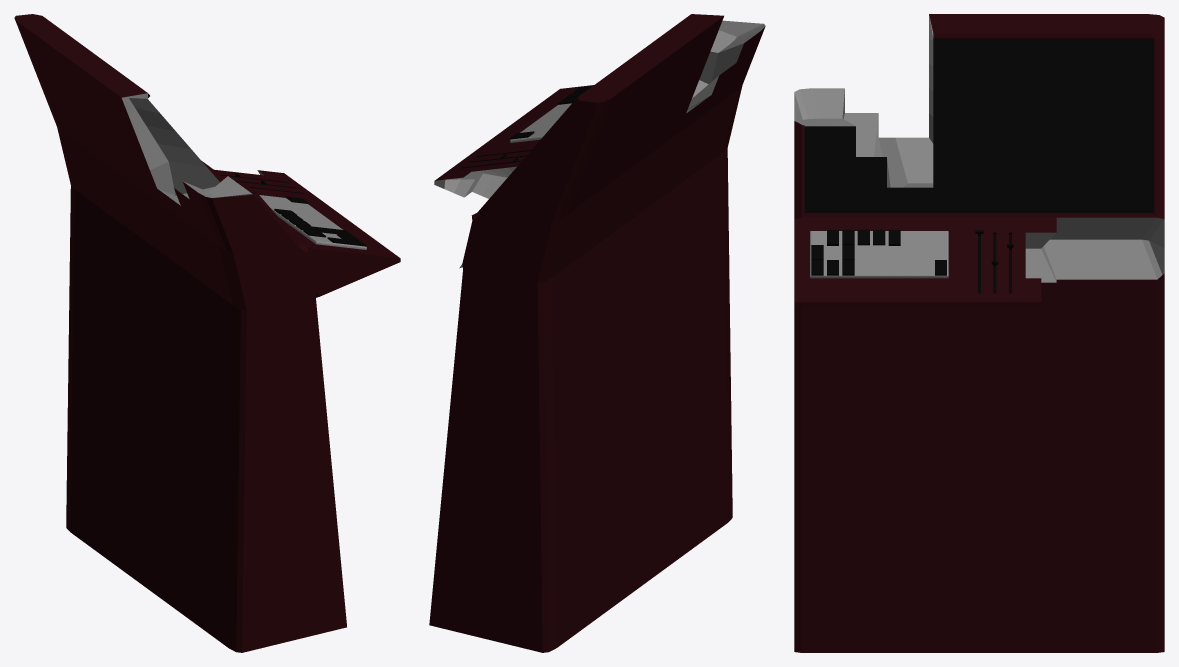
The model's file is RadarSlomaniy.fbx.
3 views of the same model, side by side, from view 1: azimuth 30°, elevation 25°; view 2: azimuth 150°, elevation 25°; view 3: azimuth 270°, elevation 25° (orthographic). The views are drawn at different scales.
Visible parts, largest first — view 1: СломаныйРадарВСтилеРетровейв; view 2: СломаныйРадарВСтилеРетровейв; view 3: СломаныйРадарВСтилеРетровейв.
Part boxes in pixels (x1,y1,x2,y2): СломаныйРадарВСтилеРетровейв: (14,14,400,652); СломаныйРадарВСтилеРетровейв: (429,14,765,652); СломаныйРадарВСтилеРетровейв: (794,14,1164,652).
Bounding box in the file's own units: 51.65 × 120 × 72.42.
